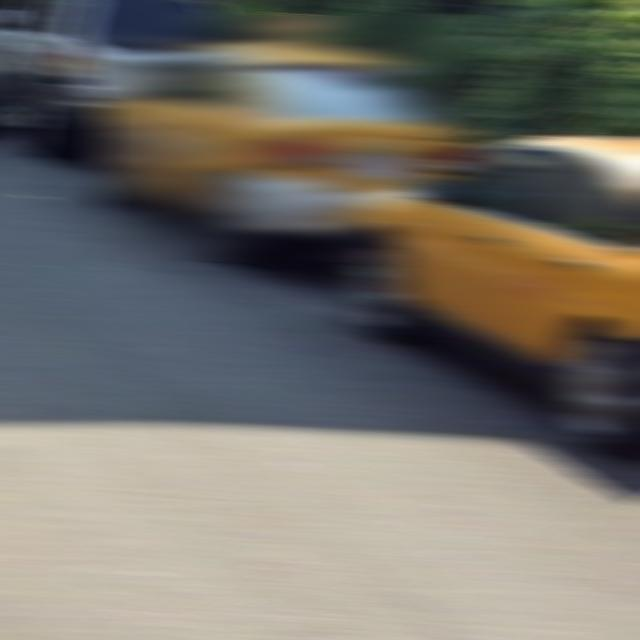Fire: (344, 136, 640, 451)
Taxi: (94, 15, 480, 262)
